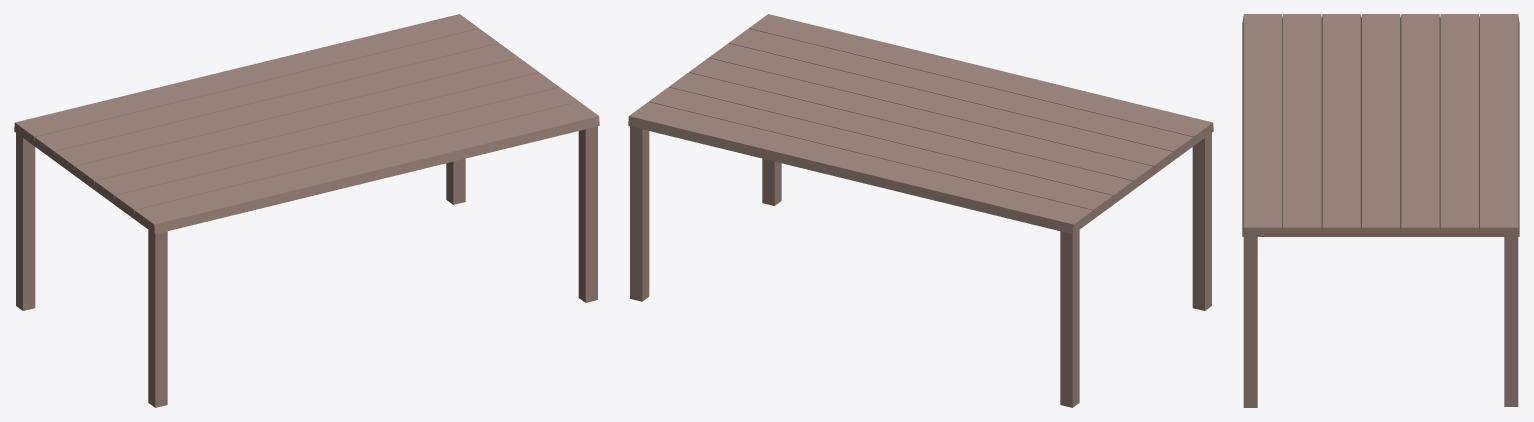
Rendered from WoodenTable.fbx.
3 views of the same model, side by side, from view 1: azimuth 30°, elevation 25°; view 2: azimuth 150°, elevation 25°; view 3: azimuth 270°, elevation 25° (orthographic).
Visible parts, largest first — view 1: polySurface487; view 2: polySurface487; view 3: polySurface487.
Boxes of the visible parts, left/top/right/bottom form: polySurface487: left=14, top=14, right=599, bottom=407; polySurface487: left=628, top=14, right=1213, bottom=407; polySurface487: left=1242, top=14, right=1519, bottom=407.
Size of the model in its own units: 1.15 by 0.4547 by 0.6314.
